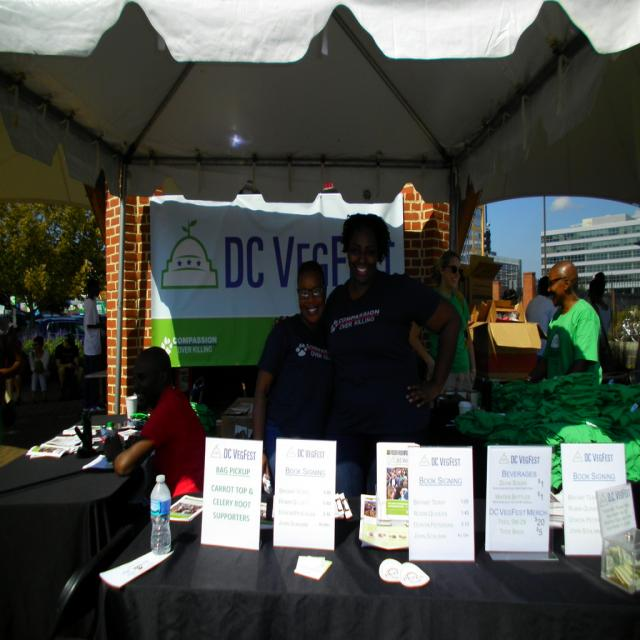chair: (47, 525, 138, 640)
desk: (0, 415, 149, 638)
person: (320, 213, 464, 500), (251, 261, 335, 492), (111, 346, 206, 500), (412, 249, 476, 421), (525, 260, 601, 383), (0, 324, 24, 434), (588, 272, 613, 354), (526, 274, 556, 341), (54, 333, 82, 400), (29, 335, 51, 403)
